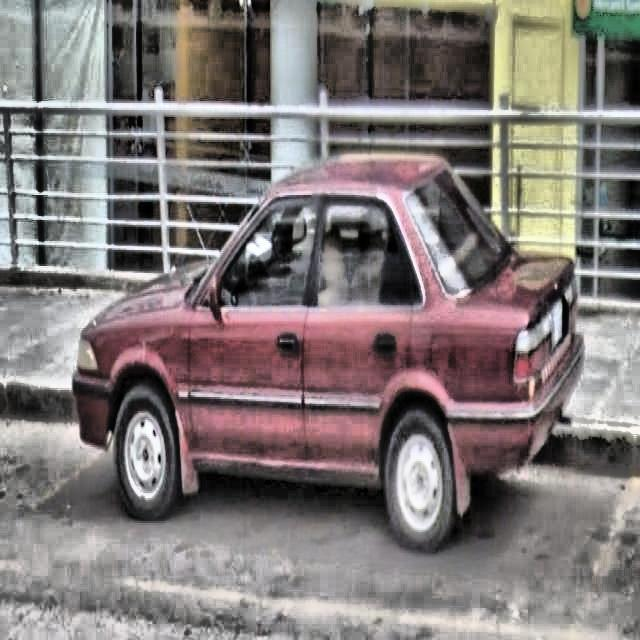carro: (75, 164, 582, 553)
